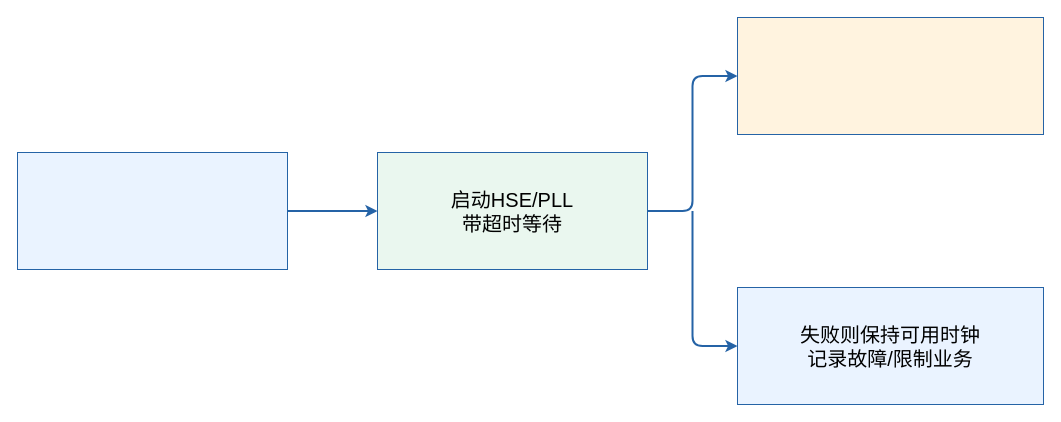
Some shapes in this 1061 by 422 pixel diagram are drawn without their labels. The shapes that lost their labels are listed below. From the top down, each one's centre as x and y in pixels, then its label:
At point 890,75: "成功则切目标时钟 重新校核外设时基".
At point 152,211: "STOP唤醒 当前先用HSI".
